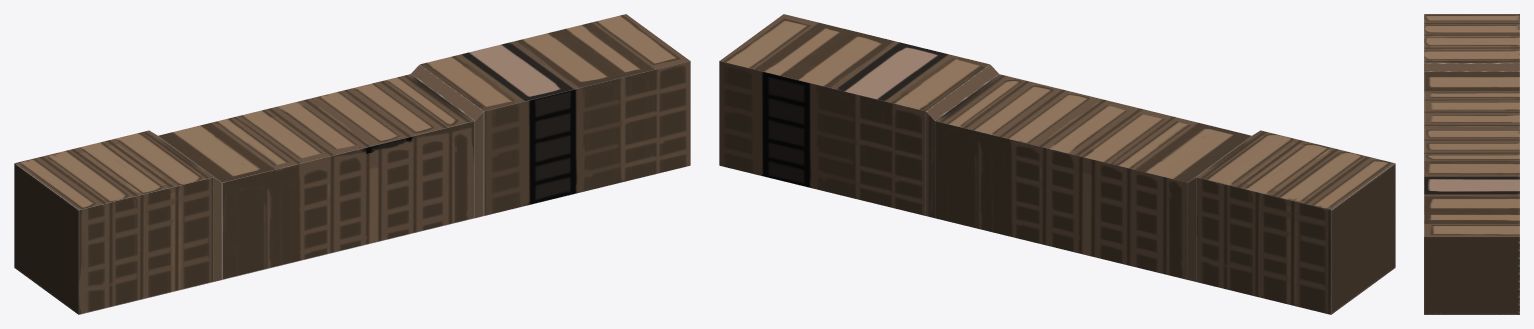
Rendered from booksforbookcase.fbx.
The picture shows the model from 3 angles, left to right: view 1: azimuth 30°, elevation 25°; view 2: azimuth 150°, elevation 25°; view 3: azimuth 270°, elevation 25°; orthographic projection. The views are drawn at different scales.
Visible parts, largest first — view 1: books; view 2: books; view 3: books.
Part boxes in pixels (<box>): books: <box>14,14,690,314</box>; books: <box>719,14,1395,314</box>; books: <box>1424,14,1519,314</box>.
Bounding box in the file's own units: 6.88 × 1.12 × 1.25.
